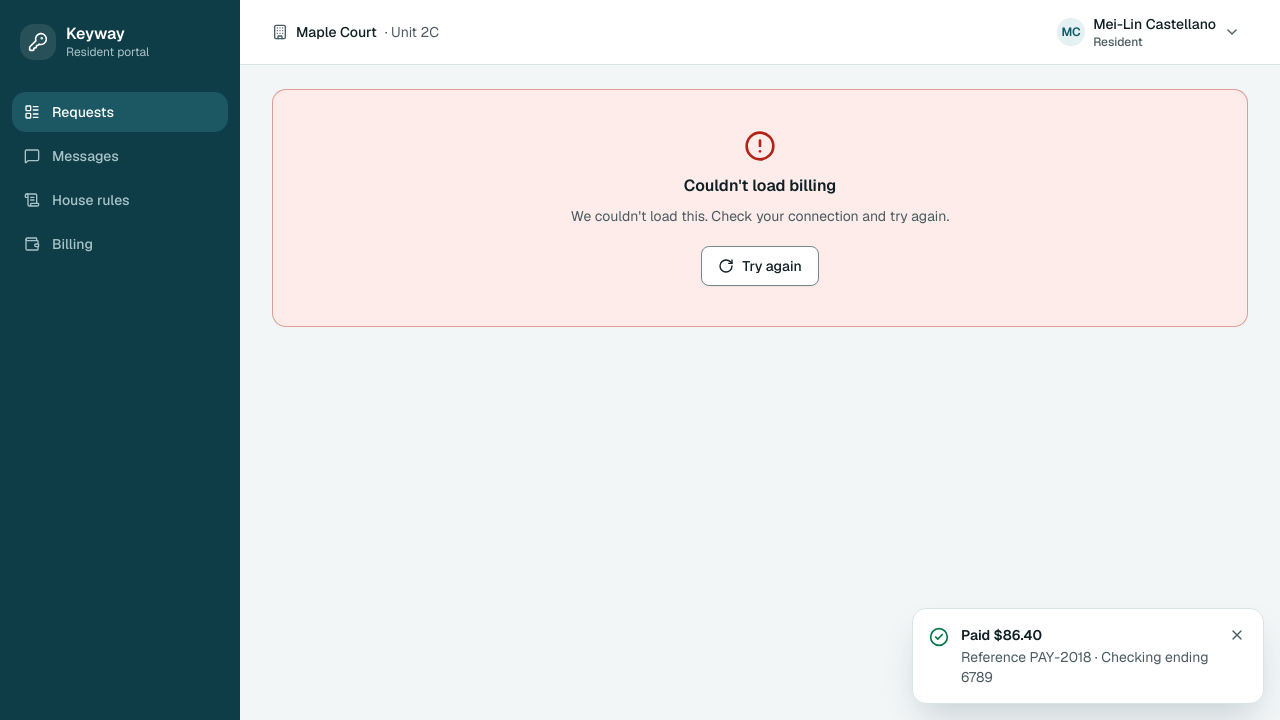
Scenario: BillingView › shows an error with a working retry
Expected: the message shows "Couldn't load billing", [684,175,836,196]
Step 1. Click the button "Try again" → (760, 266), box [701,246,819,286]
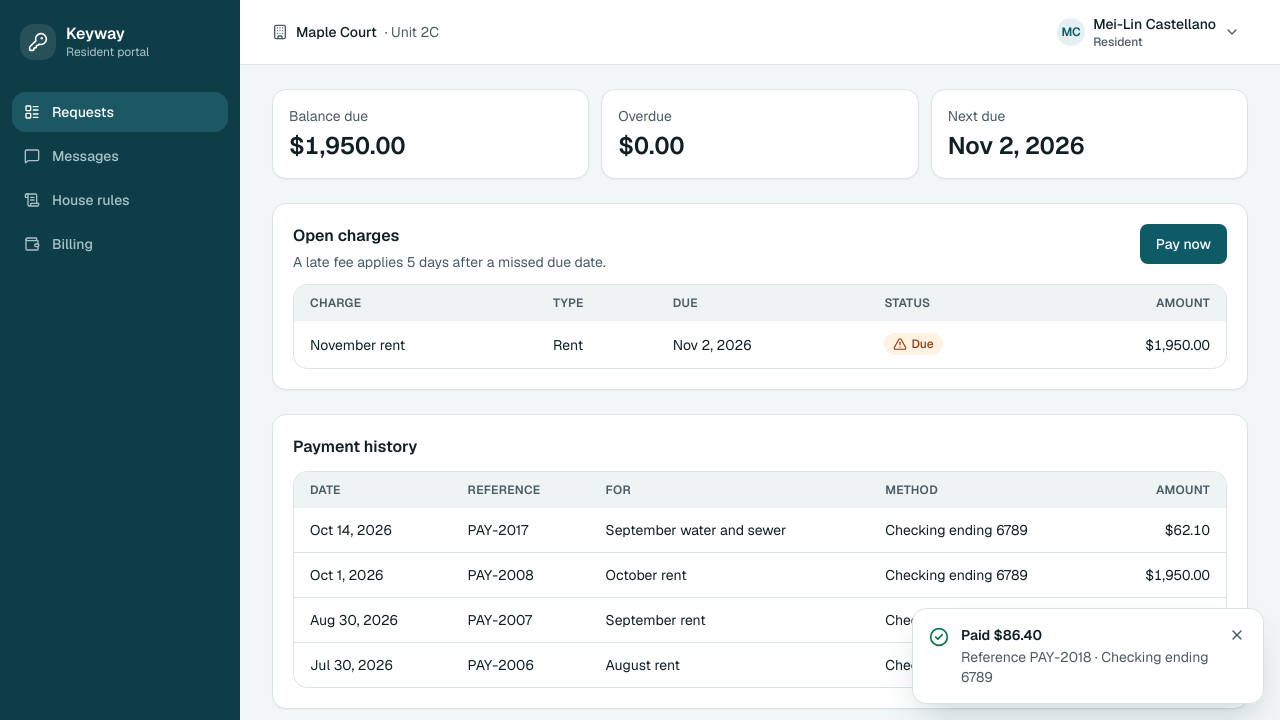
Now the element named "Account summary" is shown, box [272,89,1248,179]
